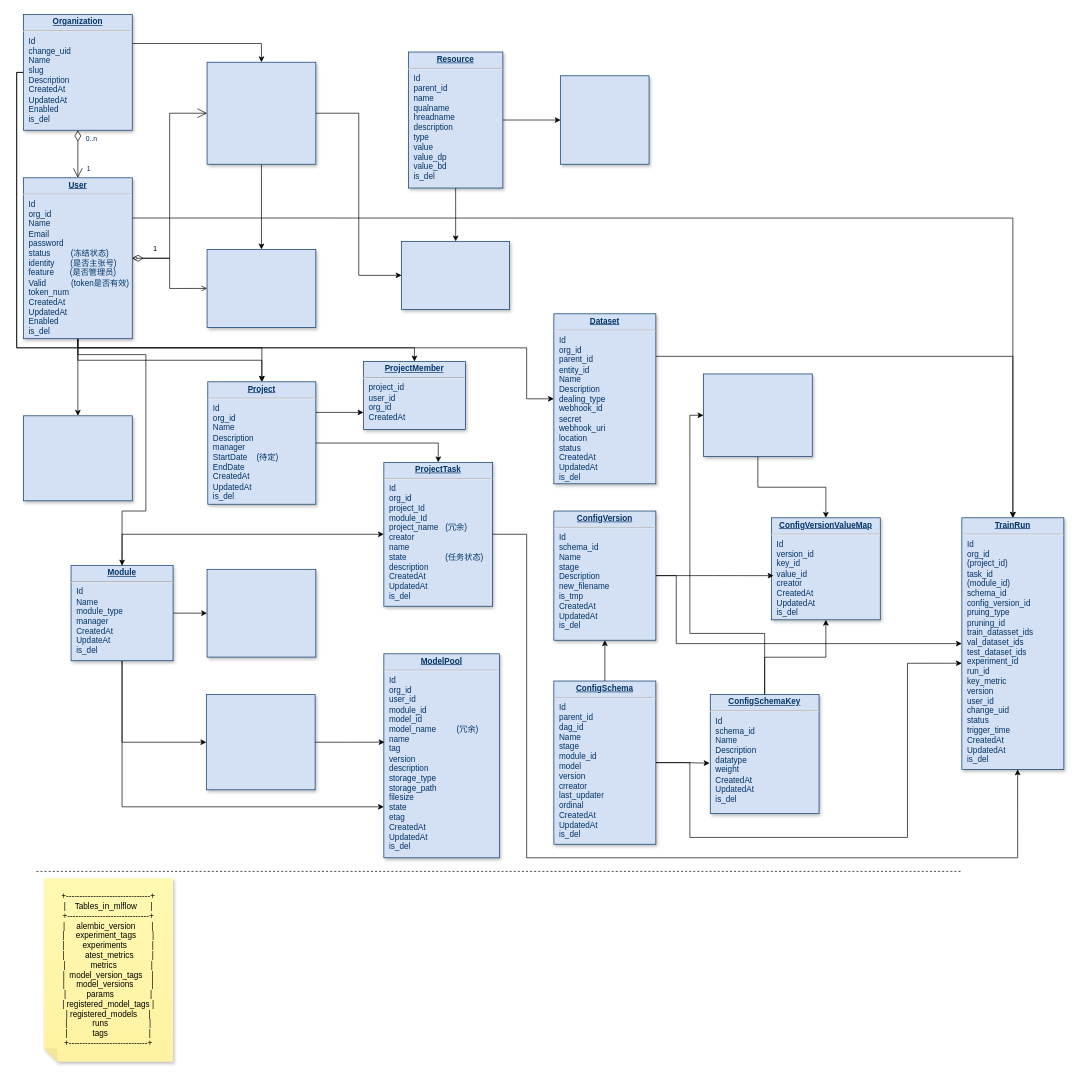
This 1080x1078 diagram has some shape labels left out. The centre of each missing label's shape, as x and y in pixels:
ConfigSchemaValue Id key_id value CreatedAt UpdatedAt is_del: point (758, 416)
Log id user_id ip action Description CreatedAt: point (78, 459)
Model Id module_id Name CreatedAt UpdatedAt is_del: point (261, 743)
ModuleVersionMap module_id version dataset_format author descitption is_del: point (262, 614)
Page APIMap Page_Id Api_Id Name Creator CreatedAt: point (605, 120)
Role Id Name creator org_id (冗余) Description CreatedAt UpdatedAt is_del: point (262, 114)
RoleResourceMap role_id resource_id creator CreatedAt: point (456, 276)
UserRoleMap user_id org_id (冗余) role_id creator CreatedAt: point (262, 289)
